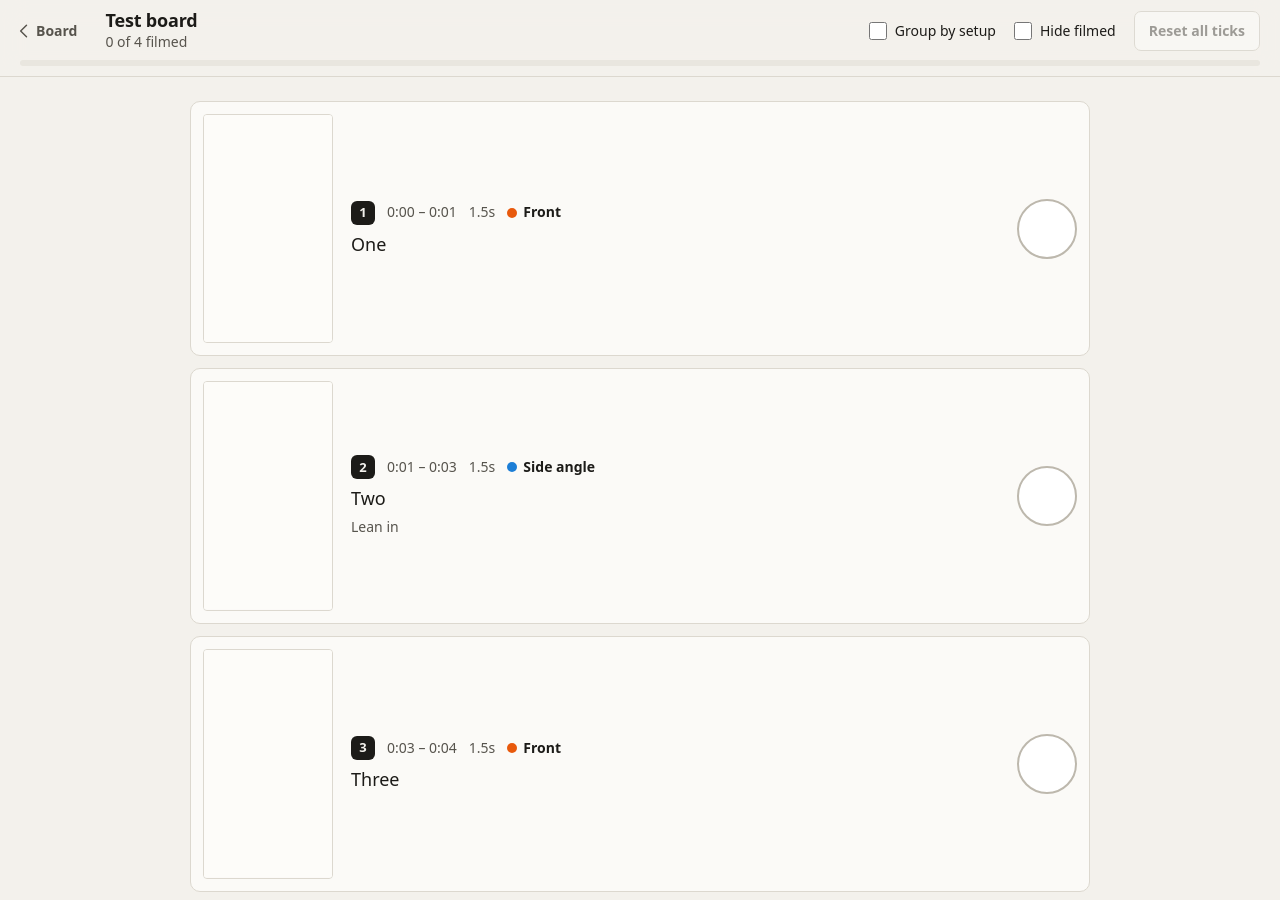
Test: ticking a panel updates the progress and the board
Click the checkbox named "Panel 2 filmed" at (1047,496), box [1017,466,1077,526]
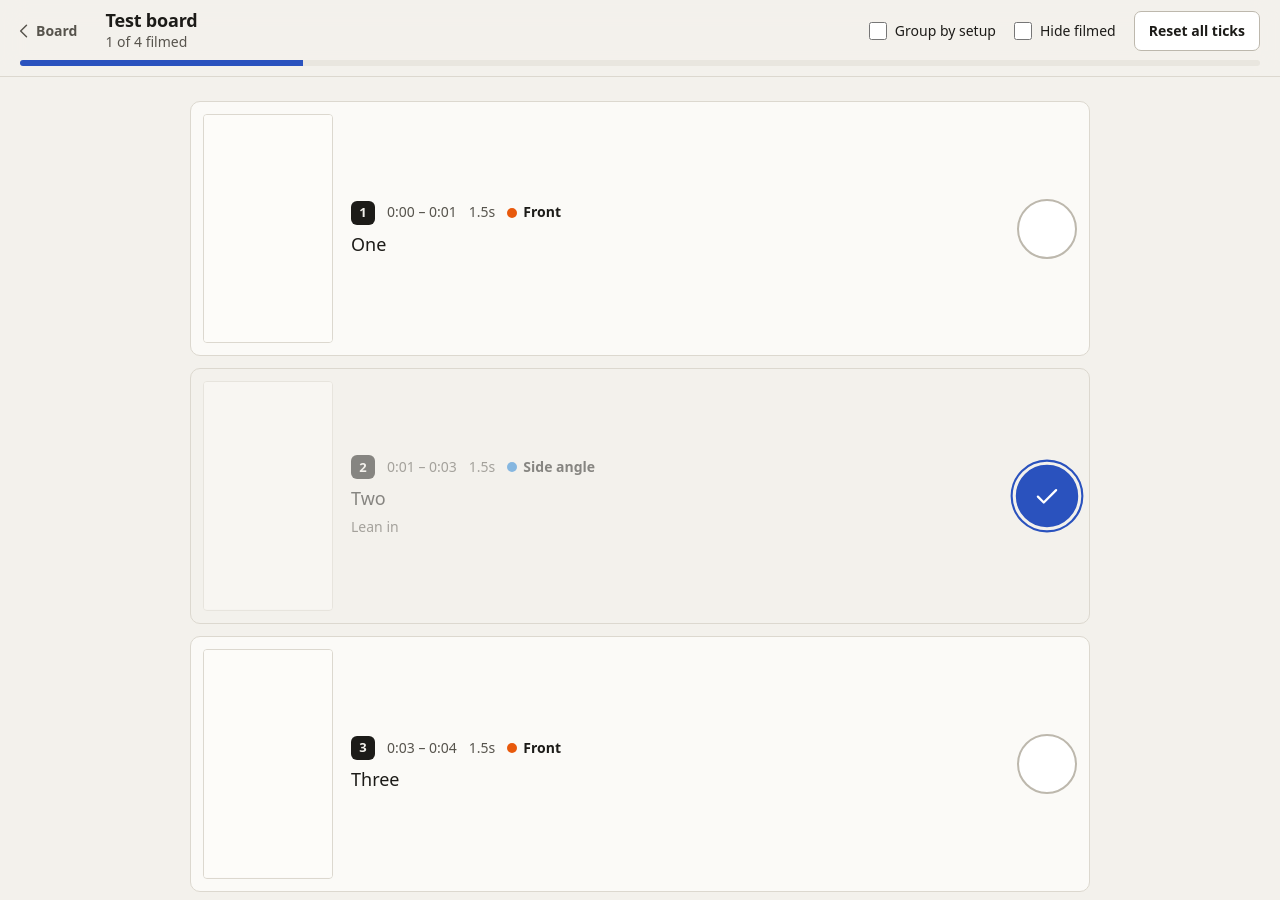
Expected: the text "1 of 4 filmed" is shown, [106,32,187,51]
Click the checkbox named "Panel 2 filmed" at (1047,496), box [1017,466,1077,526]
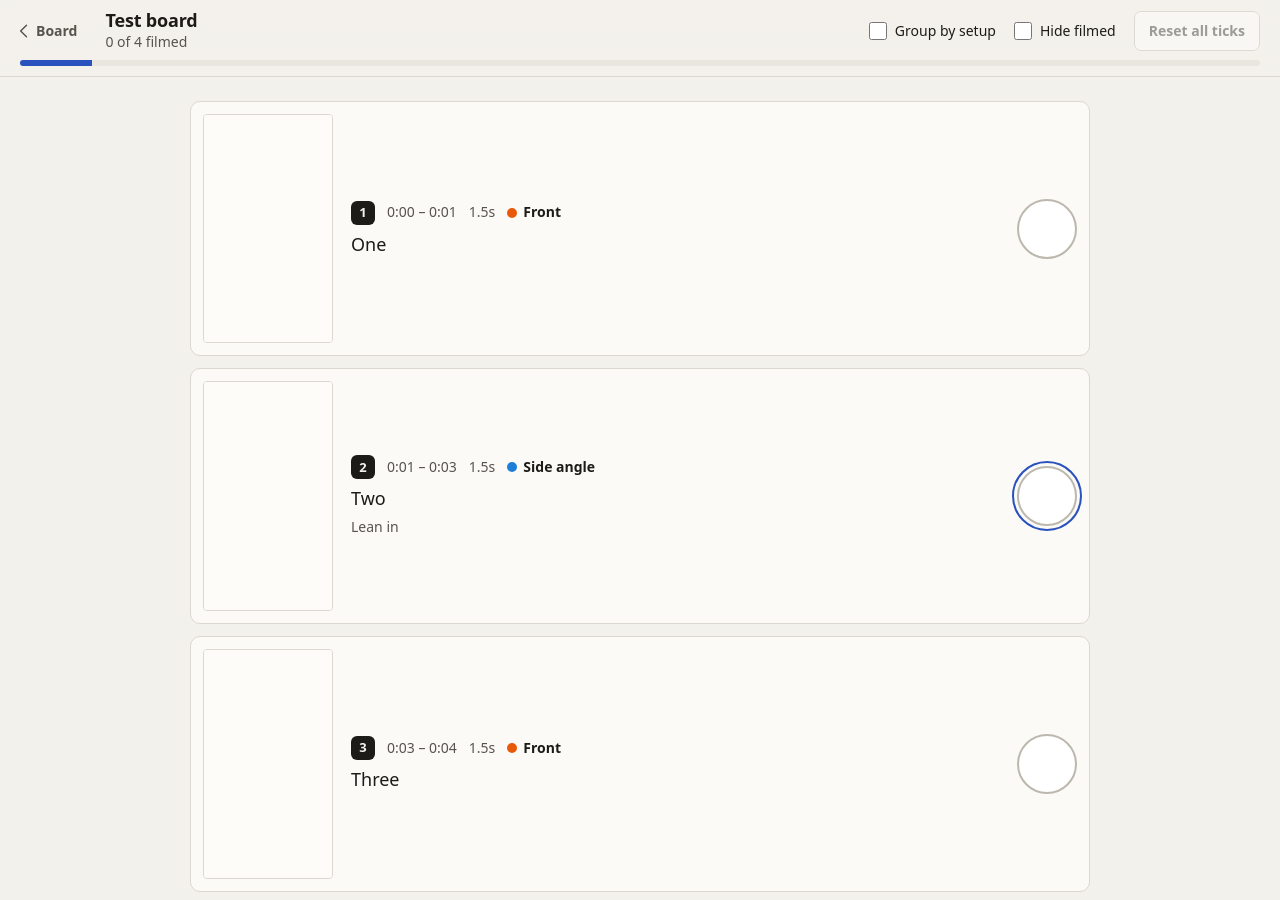
Expected: the text "0 of 4 filmed" is shown, [106,32,187,51]
